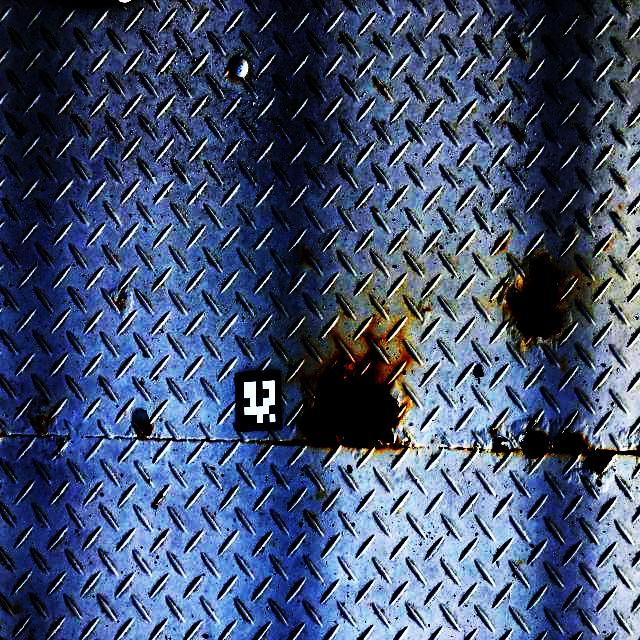Corrosion: (291, 367, 400, 448), (508, 253, 563, 342), (521, 420, 550, 458), (549, 433, 589, 455), (589, 451, 615, 472), (28, 415, 48, 435), (133, 420, 152, 439), (493, 437, 510, 453), (114, 292, 126, 310), (300, 247, 309, 263), (513, 41, 521, 51), (377, 84, 384, 95)
